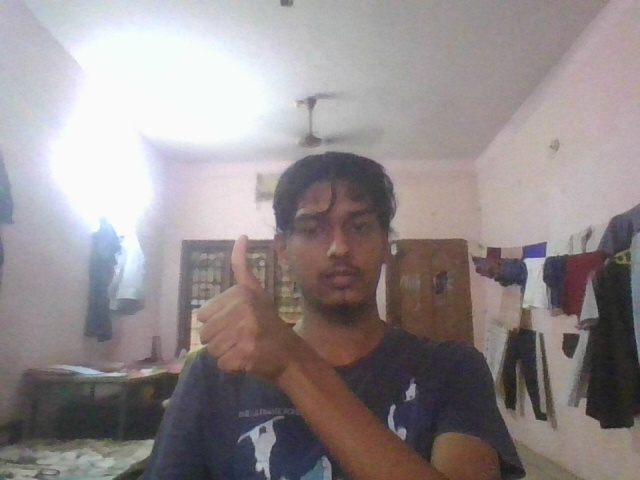thumbsup: (195, 233, 287, 378)
